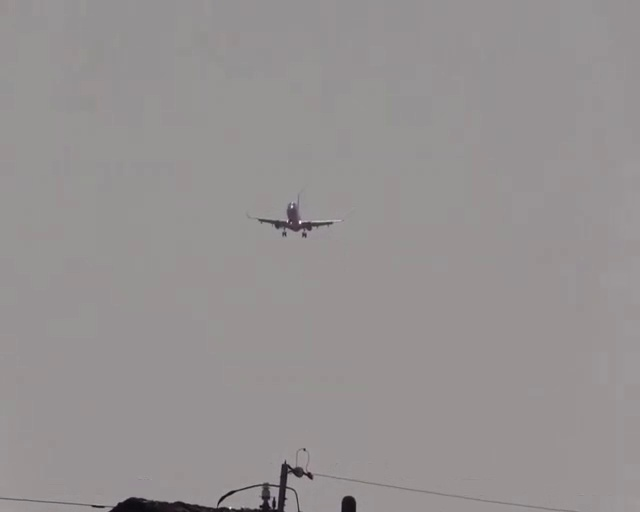AIRPLANE: (246, 186, 344, 239)
